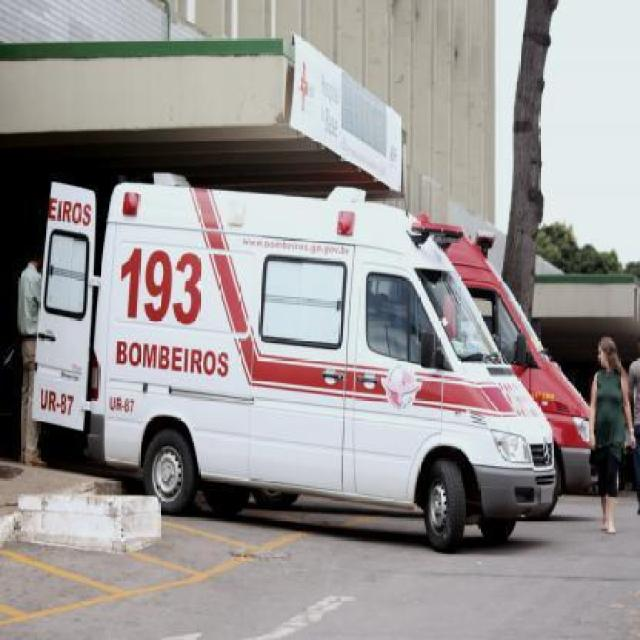Ambulance: (38, 165, 558, 557), (418, 208, 603, 516)
